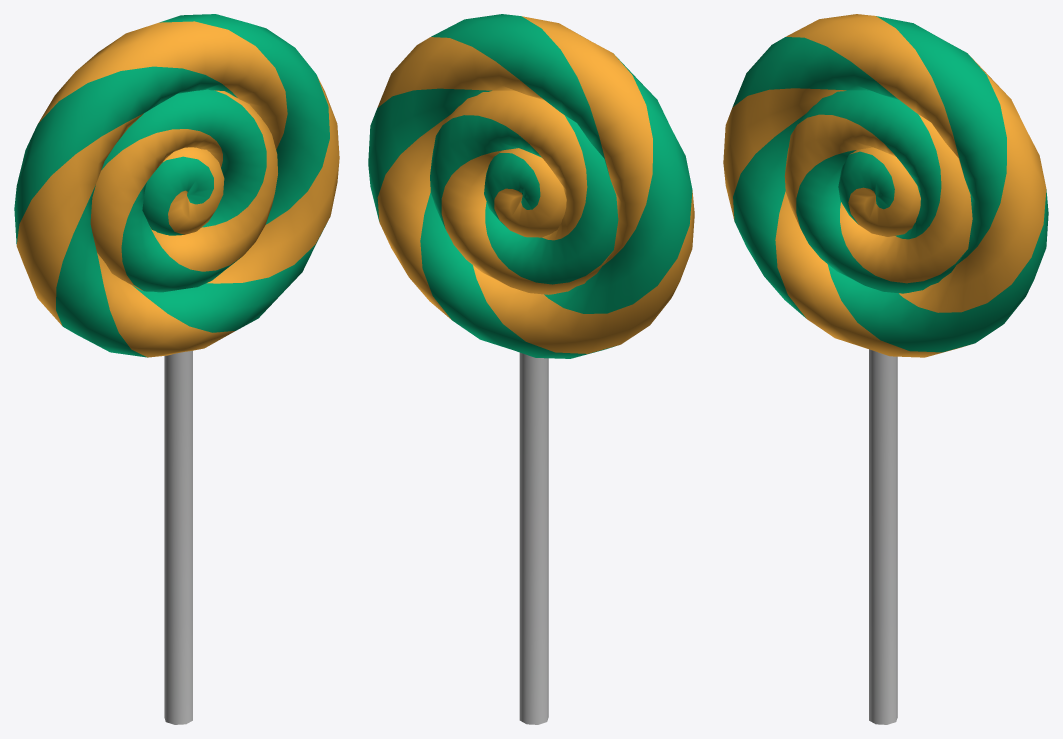
File: lollipop_035.glb
3 renders of one model, left to right at view 1: azimuth 30°, elevation 25°; view 2: azimuth 150°, elevation 25°; view 3: azimuth 330°, elevation 25°, orthographic.
Parts seen in each view (by area): view 1: lollipop_035; view 2: lollipop_035; view 3: lollipop_035.
Boxes of the visible parts, x1,y1,x2,y2 form: lollipop_035: (14, 14, 339, 724); lollipop_035: (368, 14, 694, 724); lollipop_035: (723, 14, 1048, 724).
Bounding box in the file's own units: 4.28 × 9.03 × 0.9787.
Materials: 1 (1 with a texture image).
